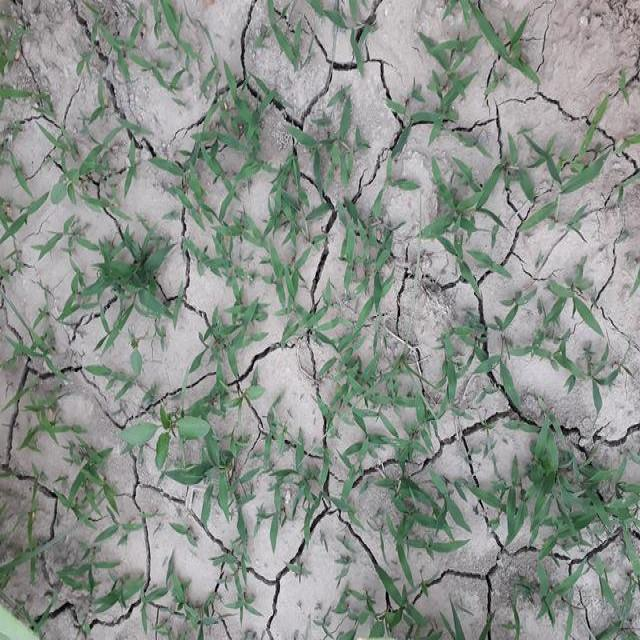weed: (198, 82, 499, 550), (517, 393, 640, 586), (94, 213, 198, 342)
